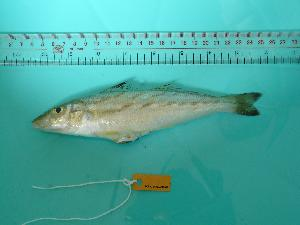kiss: (31, 77, 269, 144)
